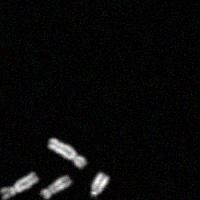chromosome: (48, 137, 86, 168), (1, 172, 39, 200), (40, 175, 72, 199), (92, 171, 110, 196)
